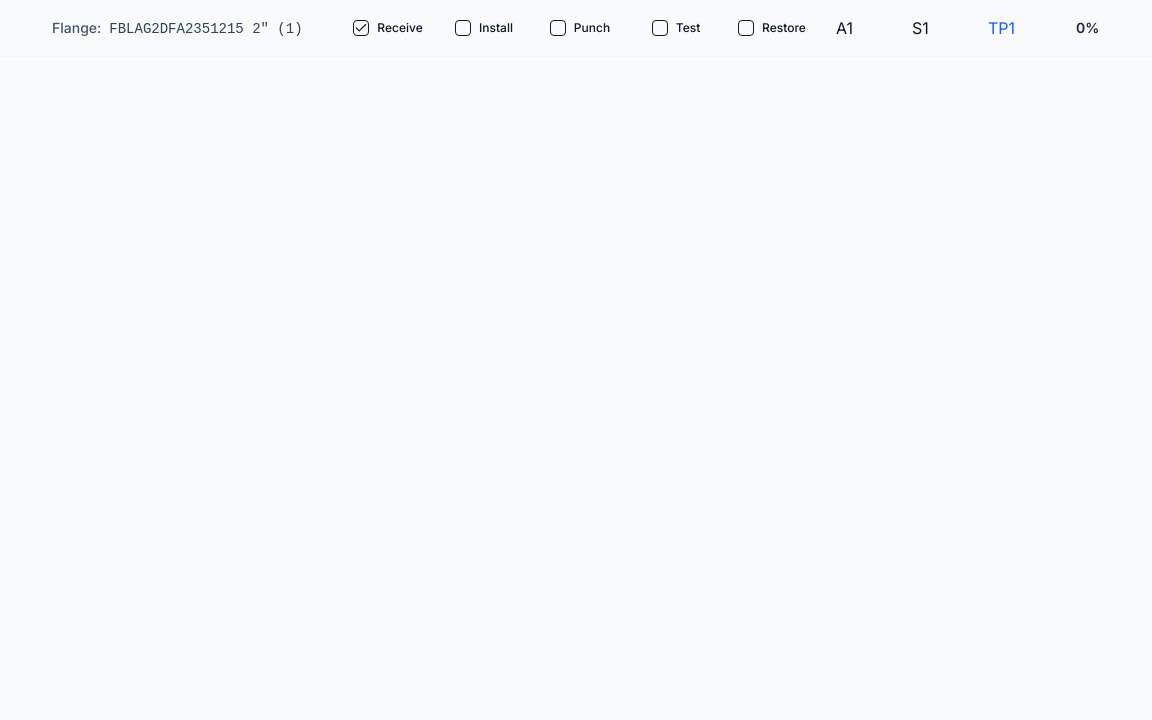
Test: ComponentRow › Rollback Confirmation Modal Integration › closes modal without updating when user cancels
# Uncheck milestone to open modal
Click the checkbox named "Receive milestone": (361, 28) [353, 20, 369, 36]
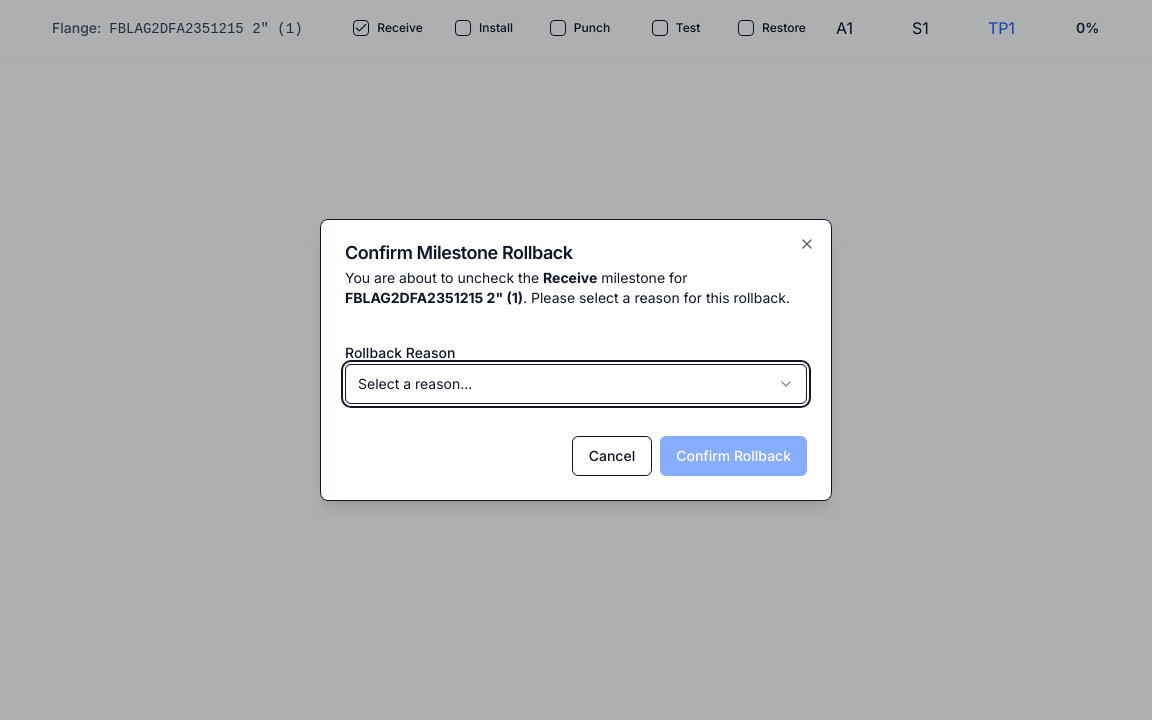
Result: the heading "Confirm Milestone Rollback" is shown at [345, 242, 573, 263]
# Click cancel
Click the button "Cancel": (612, 456) [572, 436, 652, 476]
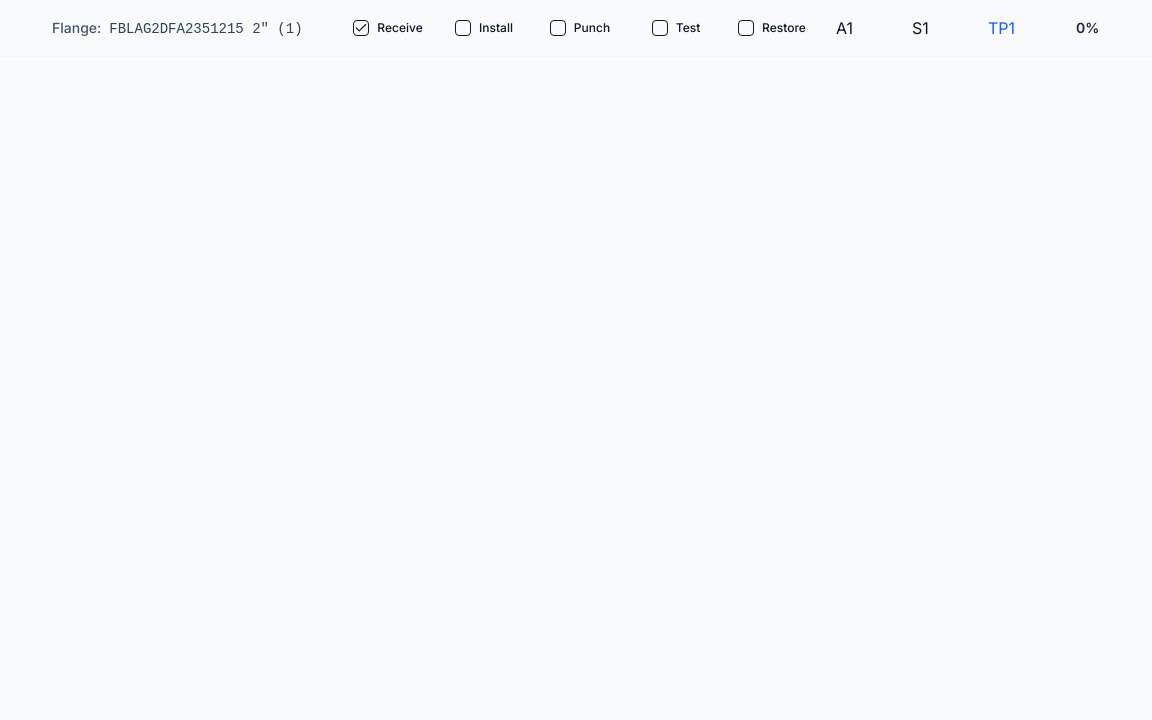
Result: the heading "Confirm Milestone Rollback" is gone
